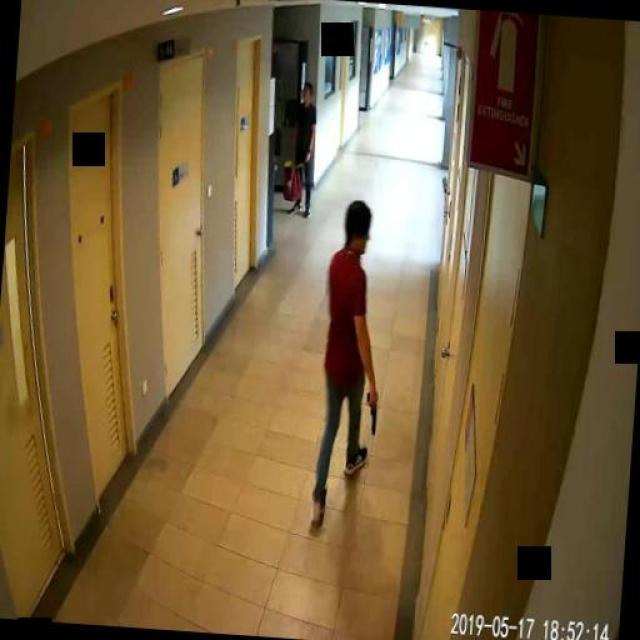gun: (362, 388, 378, 437)
